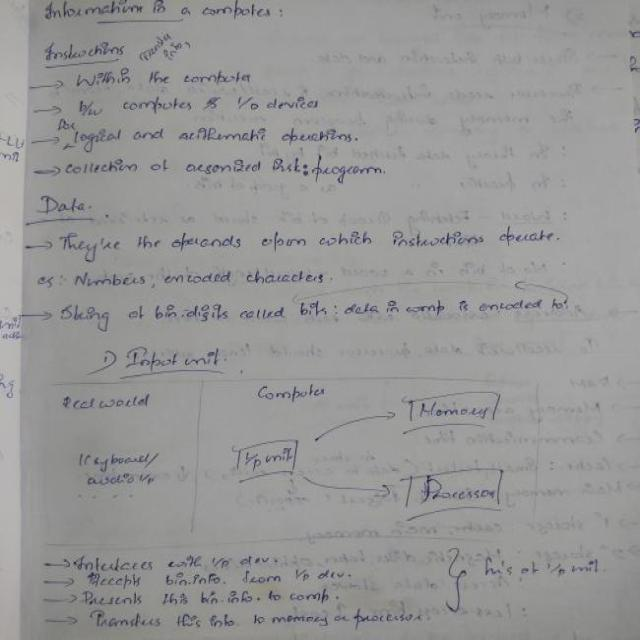Figure Detection - v3 Dataset Version2: (44, 373, 545, 550)
